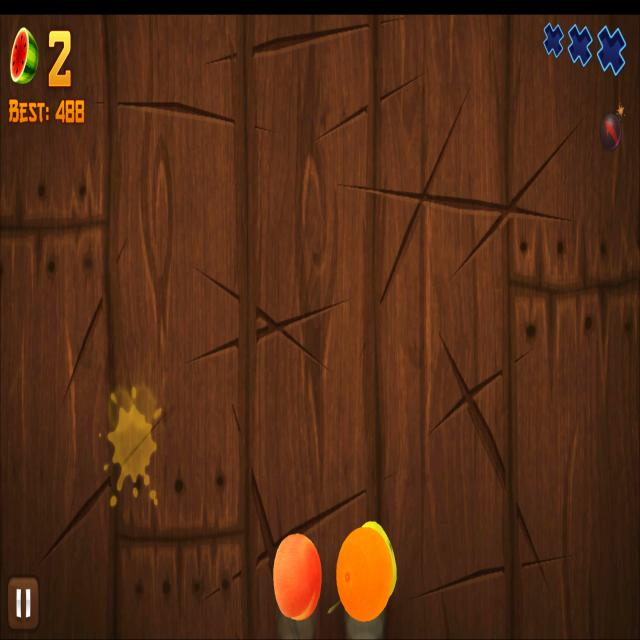fruit: (334, 528, 392, 620), (274, 534, 323, 620)
